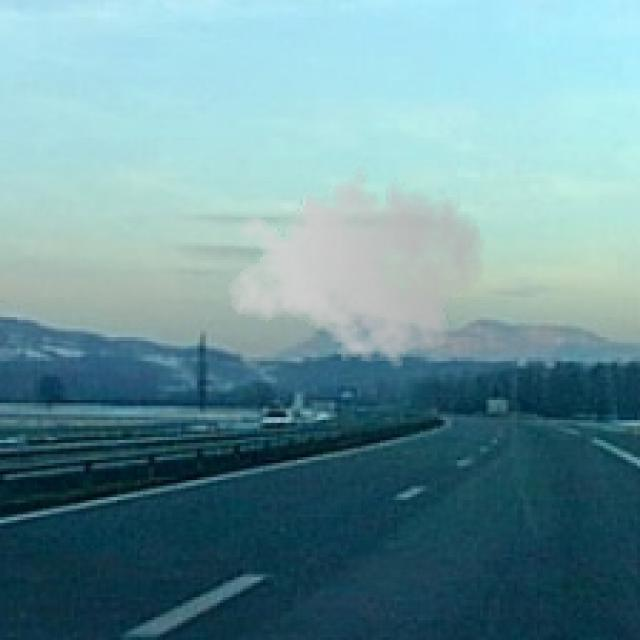smoke: (225, 157, 486, 374)
